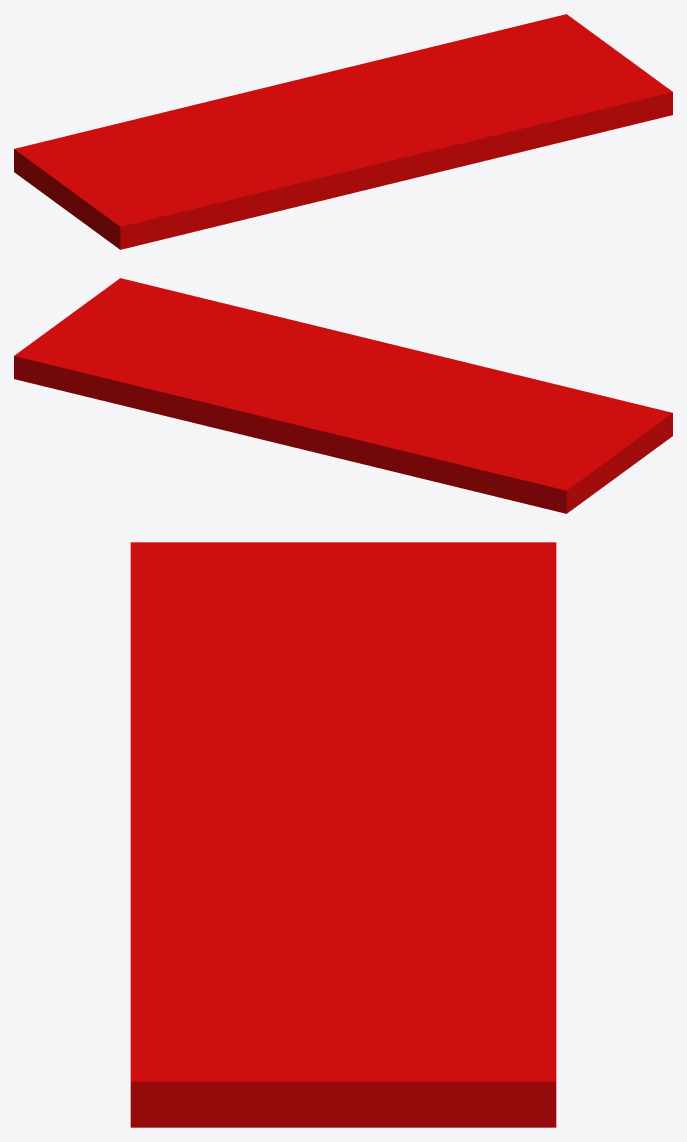
File: tile_test_1.glb
The picture shows the model from 3 angles, top to bottom: view 1: azimuth 30°, elevation 25°; view 2: azimuth 150°, elevation 25°; view 3: azimuth 270°, elevation 25°; orthographic projection. The views are drawn at different scales.
Parts seen in each view (by area): view 1: no_border; view 2: no_border; view 3: no_border.
Part boxes in pixels (bbox=[...]): no_border: bbox=[14, 14, 672, 249]; no_border: bbox=[14, 278, 672, 513]; no_border: bbox=[130, 542, 556, 1127].
Size of the model in its own units: 3 by 0.12 by 1.
